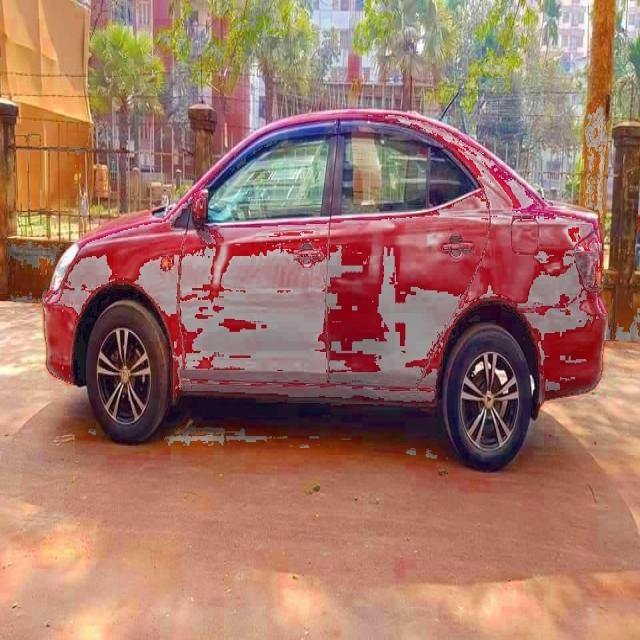maroon: (41, 106, 611, 442)
